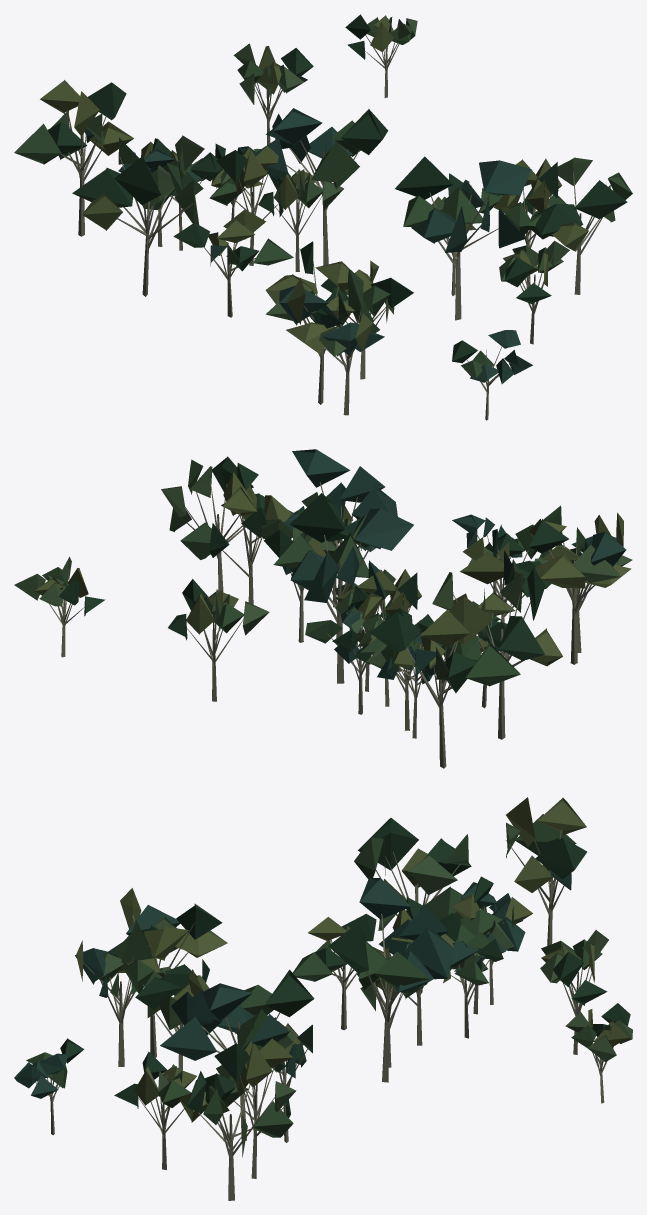
The model's file is forest_18_21.dae.
The picture shows the model from 3 angles, top to bottom: view 1: azimuth 30°, elevation 25°; view 2: azimuth 150°, elevation 25°; view 3: azimuth 270°, elevation 25°; orthographic projection. The views are drawn at different scales.
Visible parts, largest first — view 1: Node; view 2: Node; view 3: Node.
Boxes of the visible parts, x1,y1,x2,y2 form: Node: (14, 14, 632, 420); Node: (14, 449, 632, 768); Node: (14, 797, 632, 1200).
Size of the model in its own units: 10.61 by 11.2 by 4.73.
